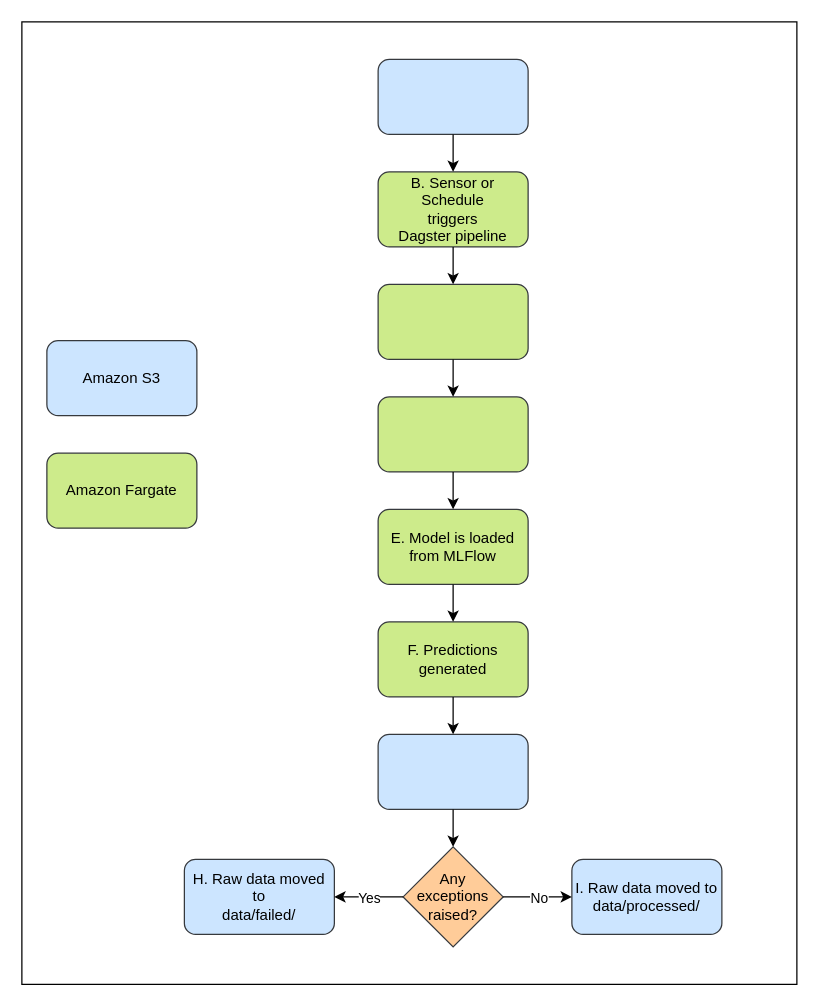
The diagram is 819 pixels wide and 1006 high, and some of its shapes have lost their labels. Here are the shapes that lost their labels. From the top down, the centre of each, then its label:
[452,96]: A. New data file in data/incoming/
[452,321]: C. Data is loaded
[452,434]: D. Data is tranformed
[452,771]: G. Predictions saved in pipeline/output
